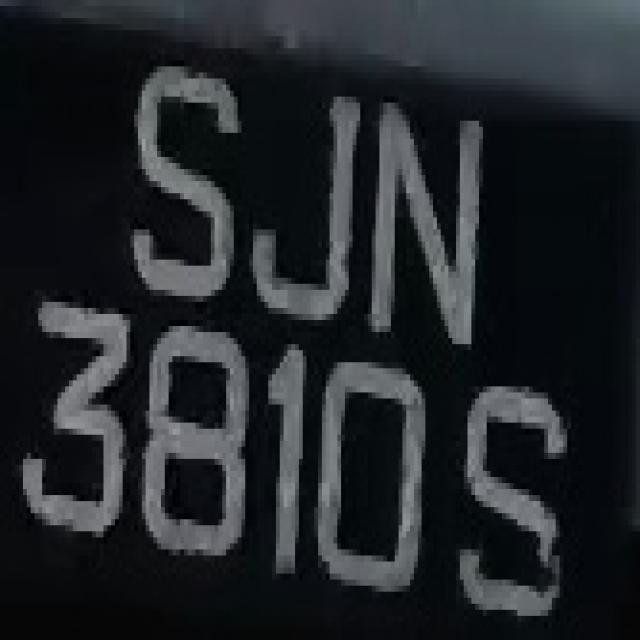0: (318, 338, 433, 604)
1: (249, 332, 318, 592)
3: (27, 266, 126, 550)
8: (138, 314, 253, 580)
J: (257, 36, 368, 326)
N: (372, 73, 486, 350)
S: (460, 344, 586, 622), (123, 54, 253, 314)
